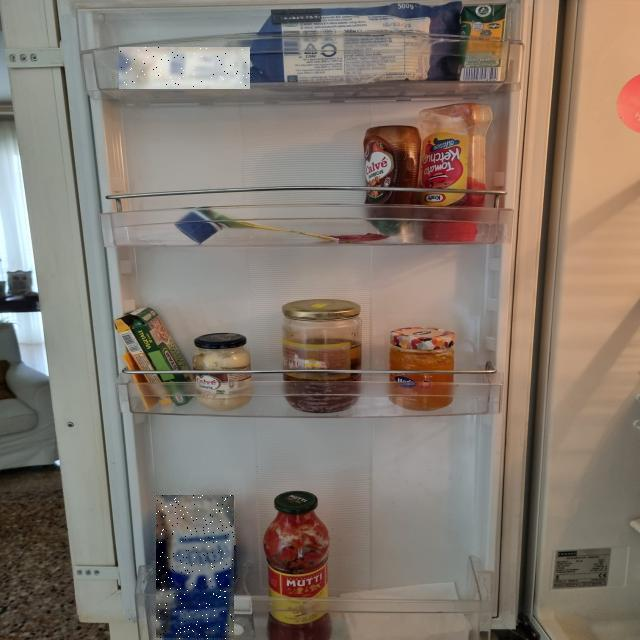Butter: (119, 47, 250, 89)
Milk: (157, 496, 235, 640)
